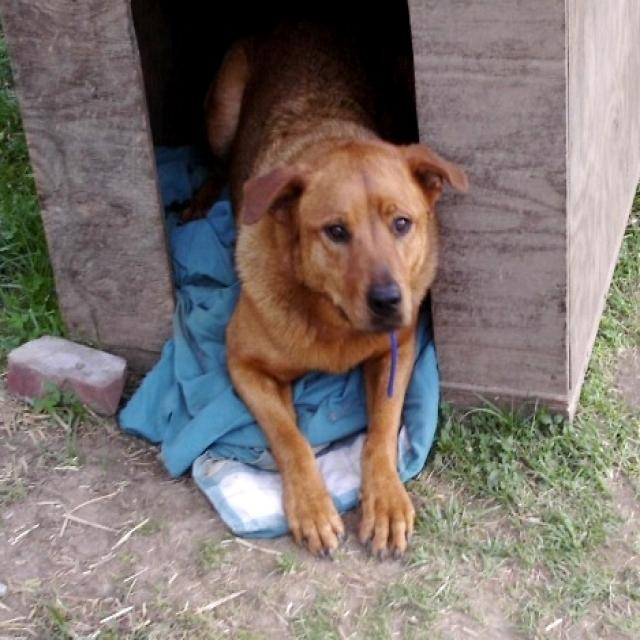Dogs: (185, 18, 470, 563)
